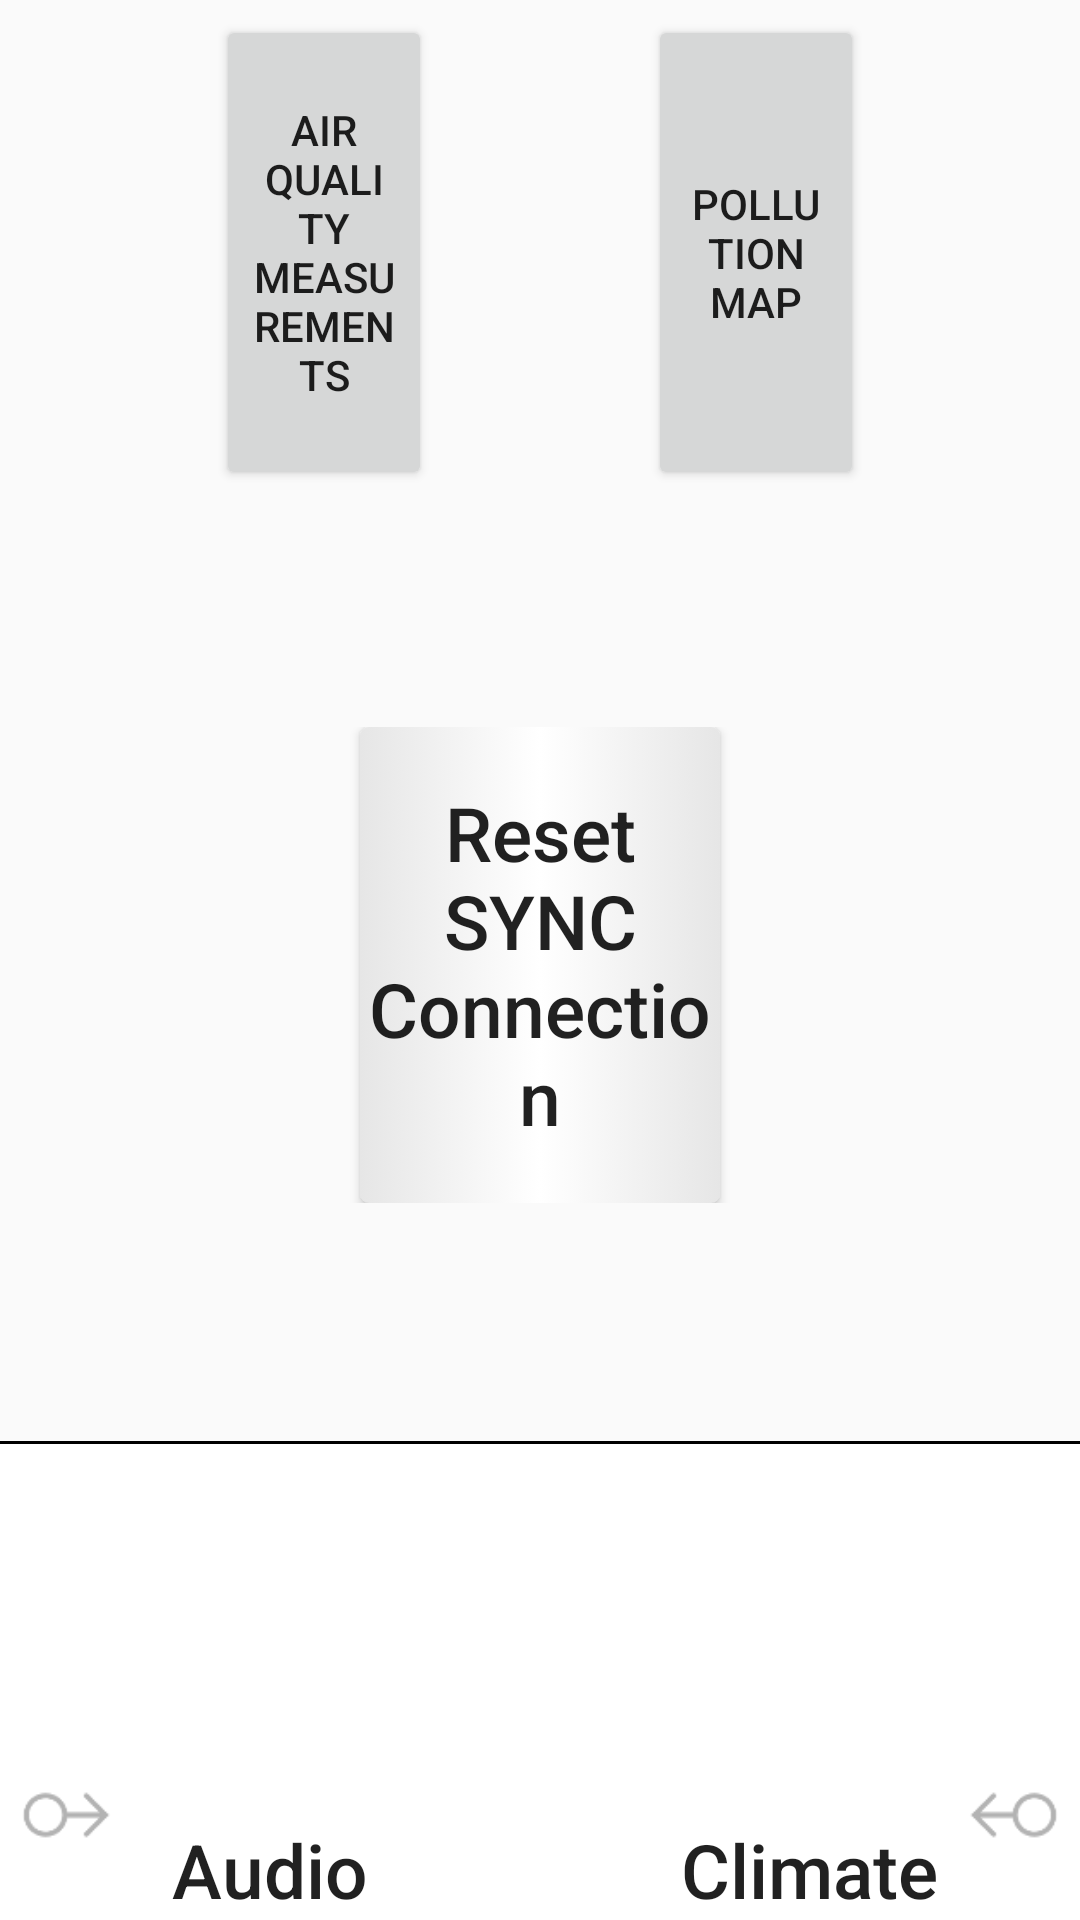

Where to tap for icons on this 1080px x 1920px app screen, as [x,y]:
swipe left: [1013,1815]
swipe right: [66,1815]
